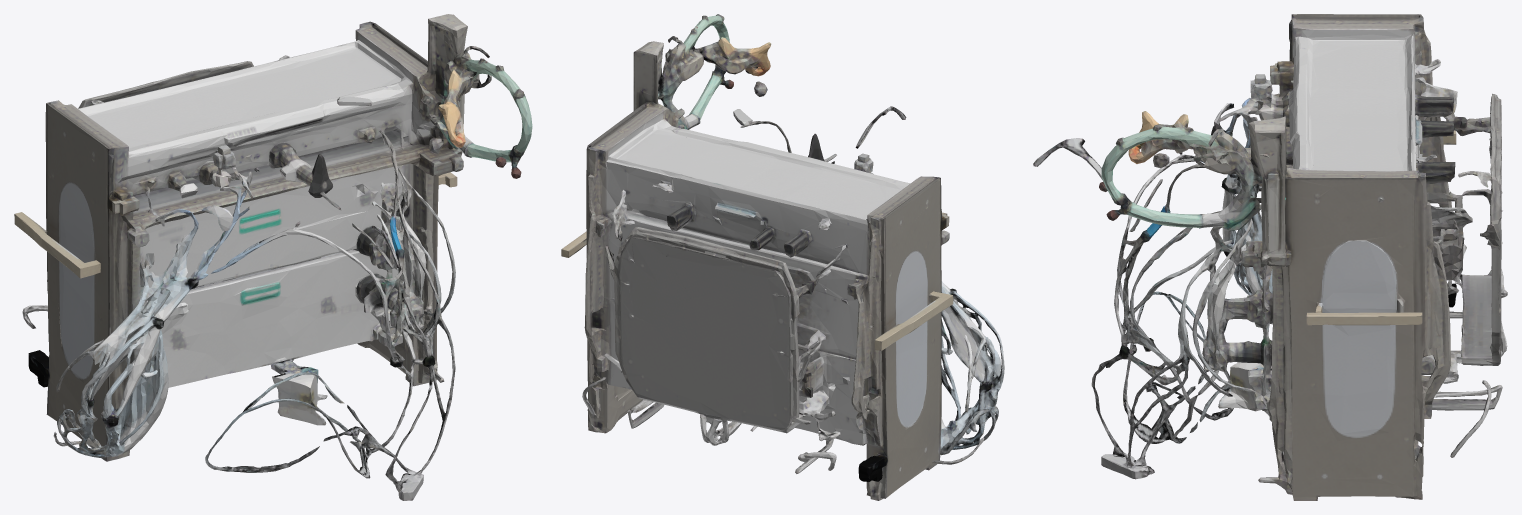
Rendered from NASADataServer.glb.
3 views of the same model, side by side, from view 1: azimuth 30°, elevation 25°; view 2: azimuth 150°, elevation 25°; view 3: azimuth 270°, elevation 25° (orthographic). The views are drawn at different scales.
Parts seen in each view (by area): view 1: world; view 2: world; view 3: world.
Part boxes in pixels (x1,y1,x2,y2): world: [14, 14, 532, 500]; world: [561, 14, 1004, 500]; world: [1033, 14, 1507, 500].
Size of the model in its own units: 0.9909 by 0.9012 by 0.9604.
Materials: 1 (1 with a texture image).
